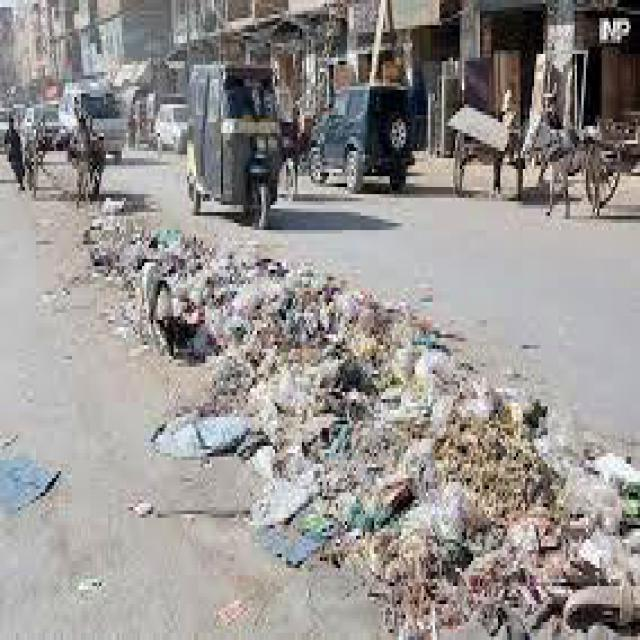garbage: (340, 371, 566, 618), (248, 270, 363, 471), (532, 449, 638, 636), (144, 277, 311, 349), (92, 201, 172, 284)
